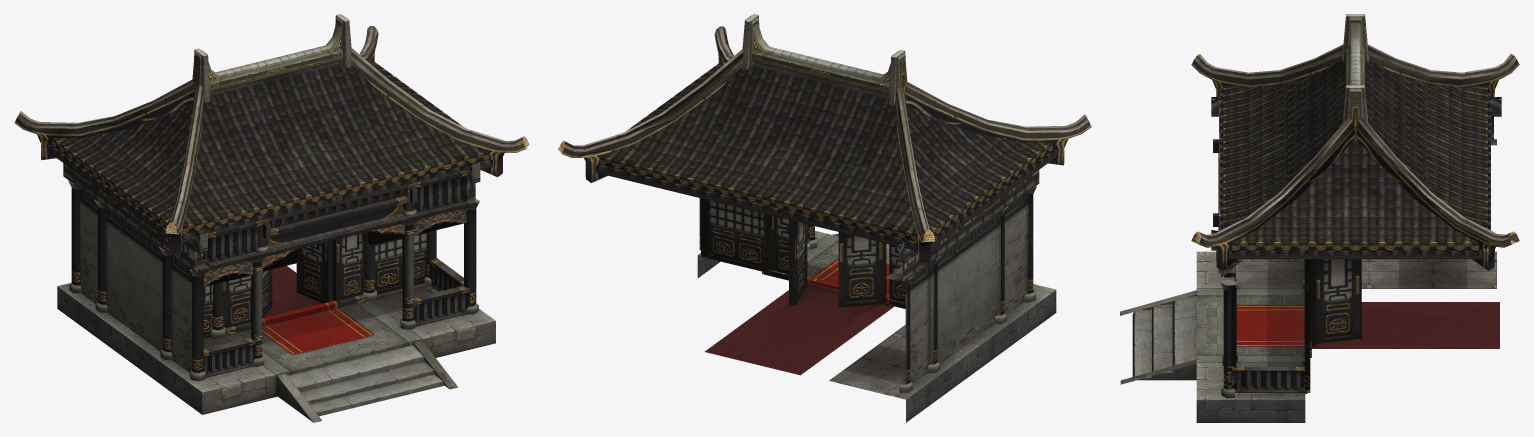
Rendered from cj_luoyang_shangpu02_56_06_9102out.fbx.
The picture shows the model from 3 angles, left to right: view 1: azimuth 30°, elevation 25°; view 2: azimuth 150°, elevation 25°; view 3: azimuth 270°, elevation 25°; orthographic projection. The views are drawn at different scales.
Parts seen in each view (by area): view 1: cj_luoyang_shangpu02; view 2: cj_luoyang_shangpu02; view 3: cj_luoyang_shangpu02.
Part boxes in pixels (box(x1,y1,x2,y2)): cj_luoyang_shangpu02: box(14, 14, 529, 422); cj_luoyang_shangpu02: box(558, 14, 1091, 422); cj_luoyang_shangpu02: box(1120, 14, 1519, 422).
Size of the model in its own units: 15.15 by 11.44 by 13.92.
